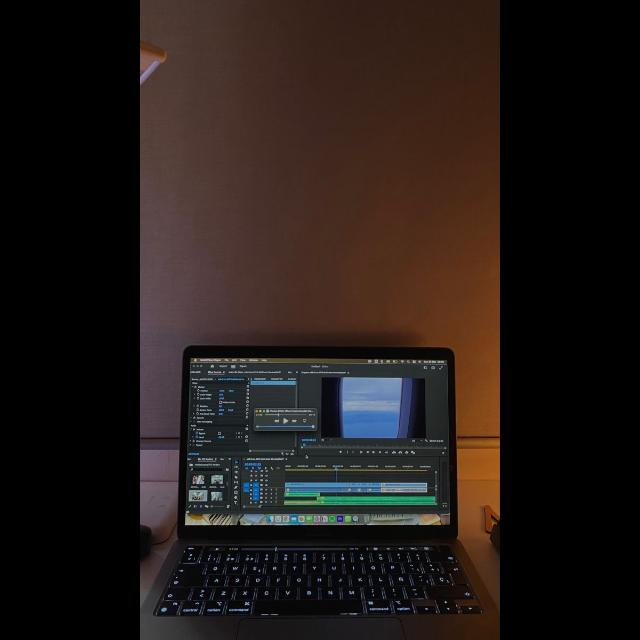laptop: (158, 348, 500, 634)
